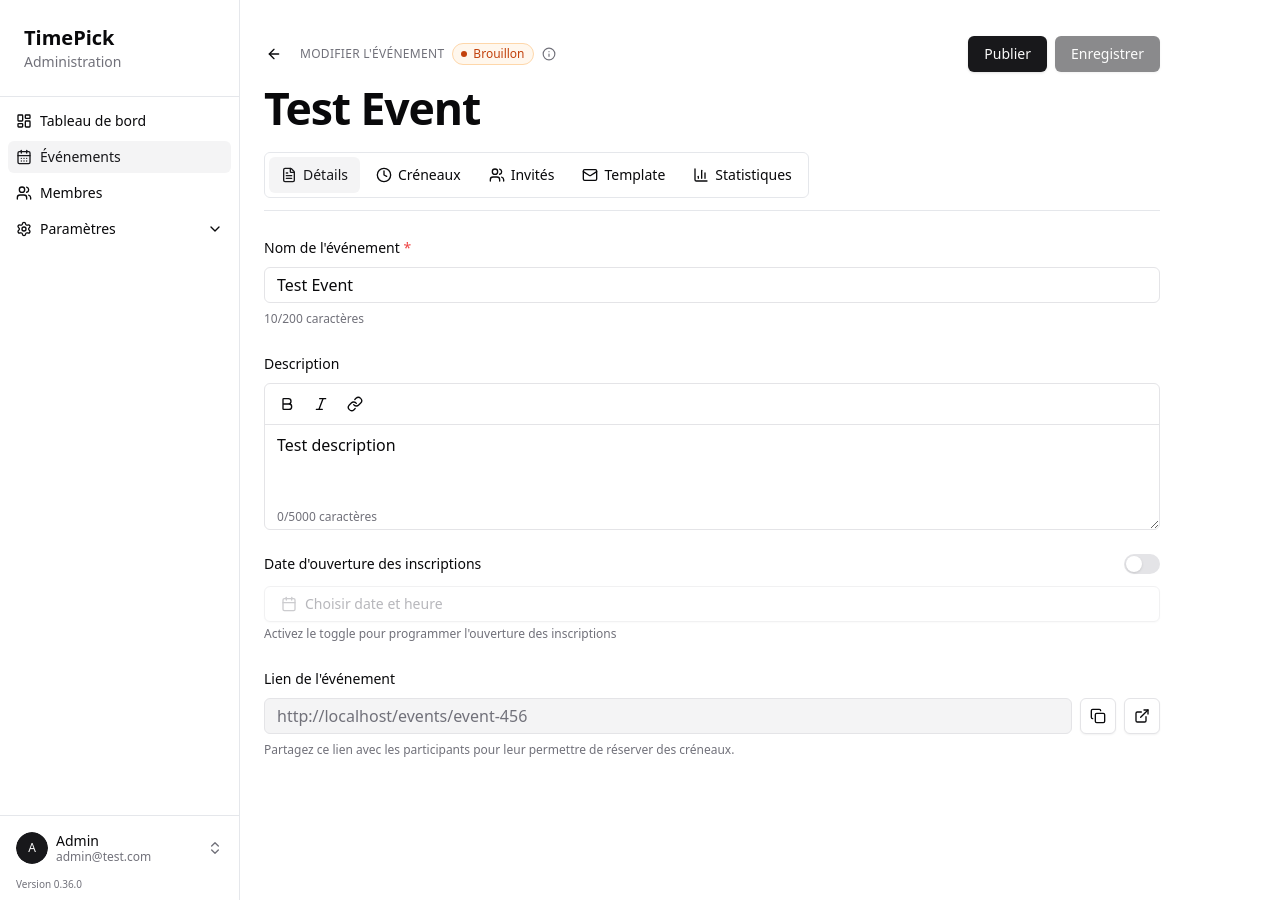
Test: EventEditPage › Edit Mode › affiche une erreur de chargement (pas l'état vide) si la récupération échoue
Click the radio button labelled "Statistiques".
click(743, 175)  # box [681,157,804,193]
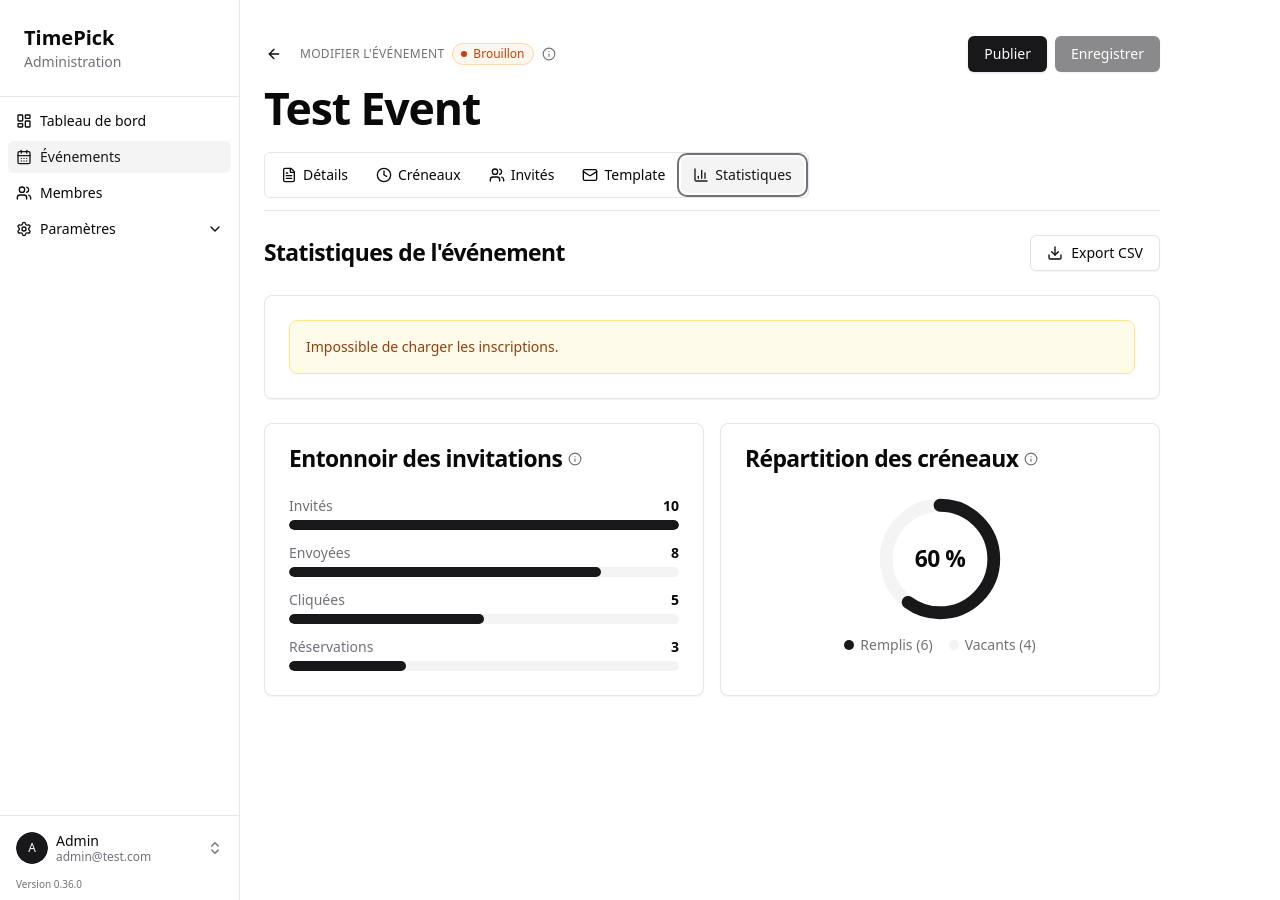
Expected: the text "Impossible de charger les inscriptions." is shown, [306,337,558,356]
